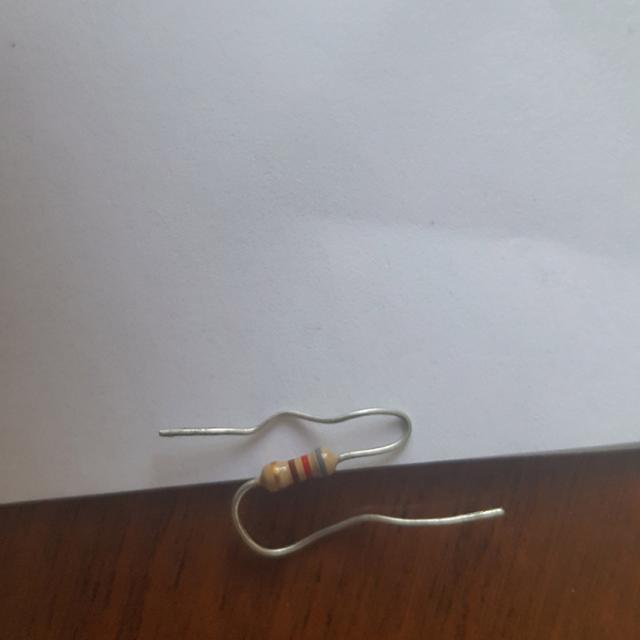brown: (288, 460, 298, 482)
gold: (272, 462, 281, 488)
grey: (317, 449, 326, 476)
red: (302, 455, 312, 478)
resistor: (251, 448, 343, 491)
